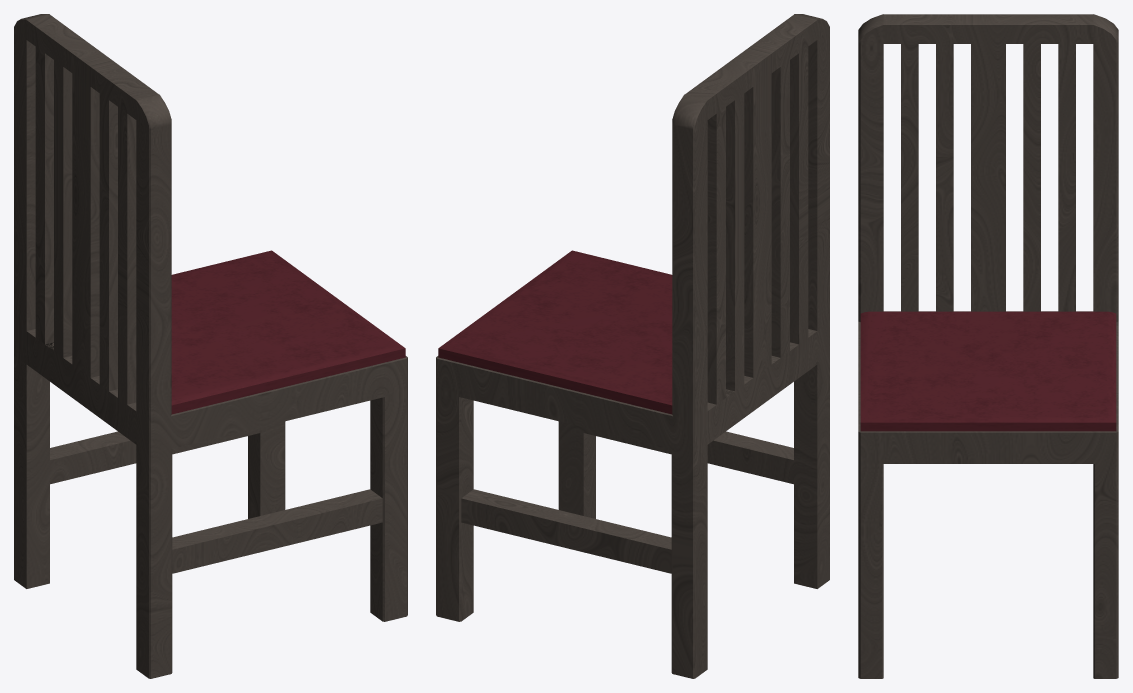
The model's file is tuoli.fbx.
3 views of the same model, side by side, from view 1: azimuth 30°, elevation 25°; view 2: azimuth 150°, elevation 25°; view 3: azimuth 270°, elevation 25° (orthographic). The views are drawn at different scales.
Visible parts, largest first — view 1: tuoli, istuin; view 2: tuoli, istuin; view 3: tuoli, istuin.
Part boxes in pixels (x1,y1,x2,y2): tuoli: (14,14,407,678); istuin: (171,250,405,414); tuoli: (436,14,829,678); istuin: (438,250,672,414); tuoli: (858,14,1118,678); istuin: (860,311,1116,431).
Bounding box in the file's own units: 78.76 × 165 × 71.7.
Materials: 2 (2 with a texture image).
